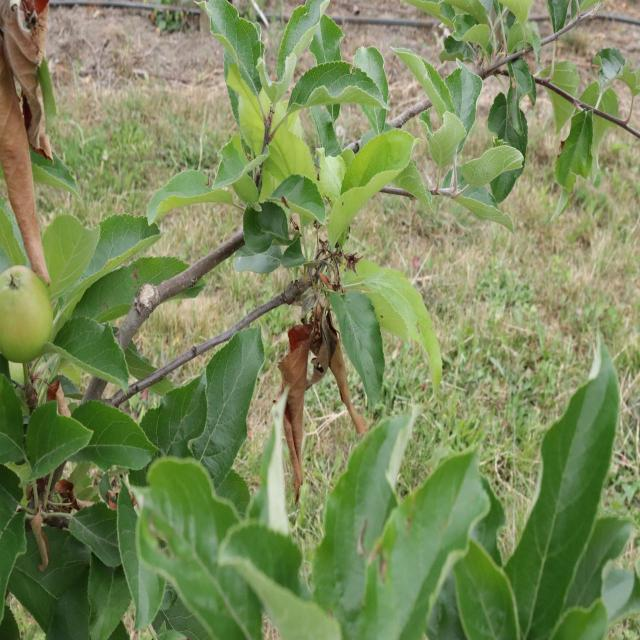-FireBlight-: (0, 0, 54, 281), (280, 311, 310, 501), (304, 292, 344, 381), (338, 361, 361, 433), (31, 501, 52, 561), (52, 469, 80, 508)
